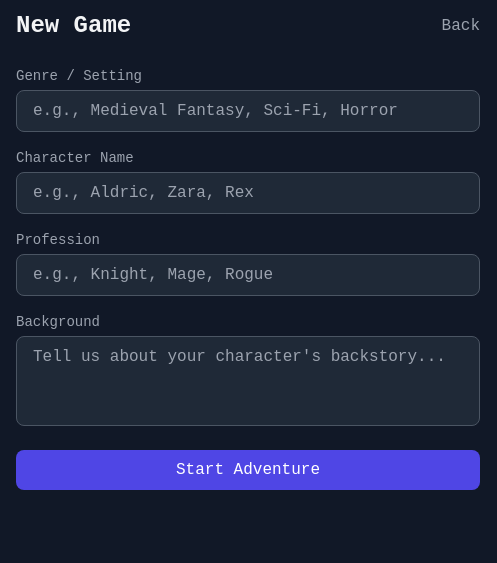
Test: NewGamePage › shows error on failure
Type "Fantasy" into the field labelled "Genre / Setting".
click(248, 111); type("Fantasy")  # box [16,90,480,132]
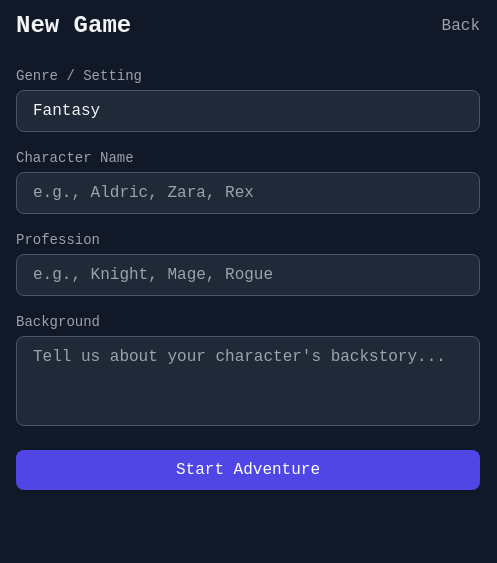
Type "A" into the field labelled "Character Name".
click(248, 193); type("A")  # box [16,172,480,214]
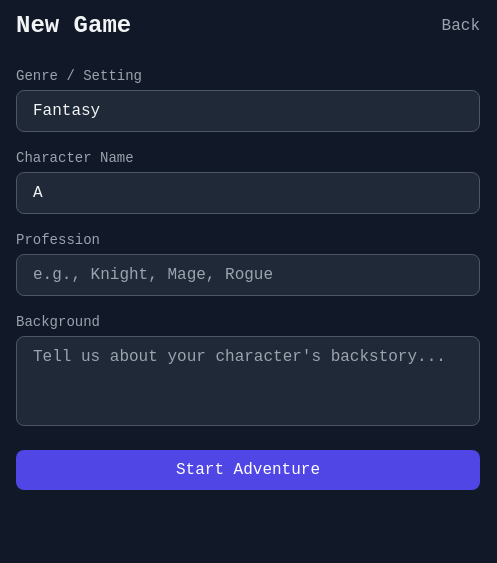
Type "B" into the field labelled "Profession".
click(248, 275); type("B")  # box [16,254,480,296]
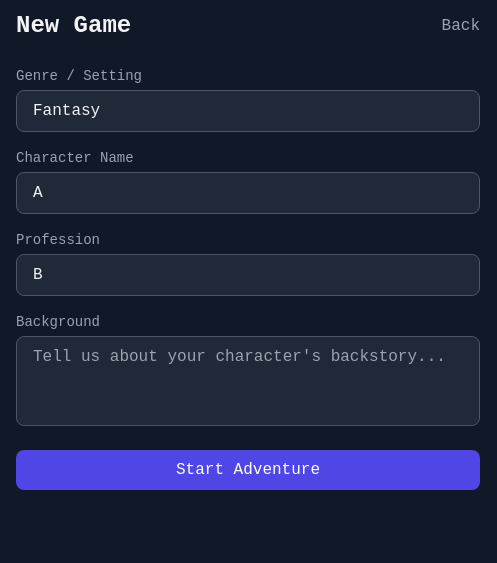
Type "C" into the text box labelled "Background".
click(248, 381); type("C")  # box [16,336,480,426]
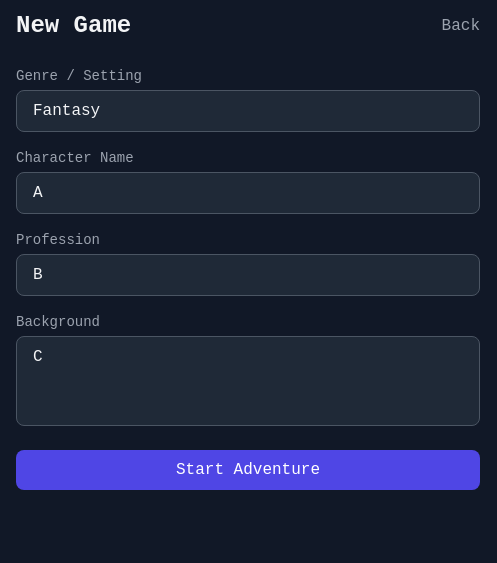
Click the button "Start Adventure".
click(248, 470)  # box [16,450,480,490]
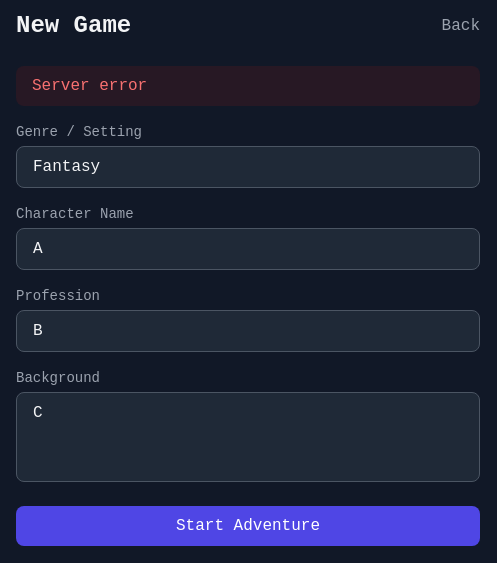
Check: the text "Server error" is shown, box [16,66,480,106]
